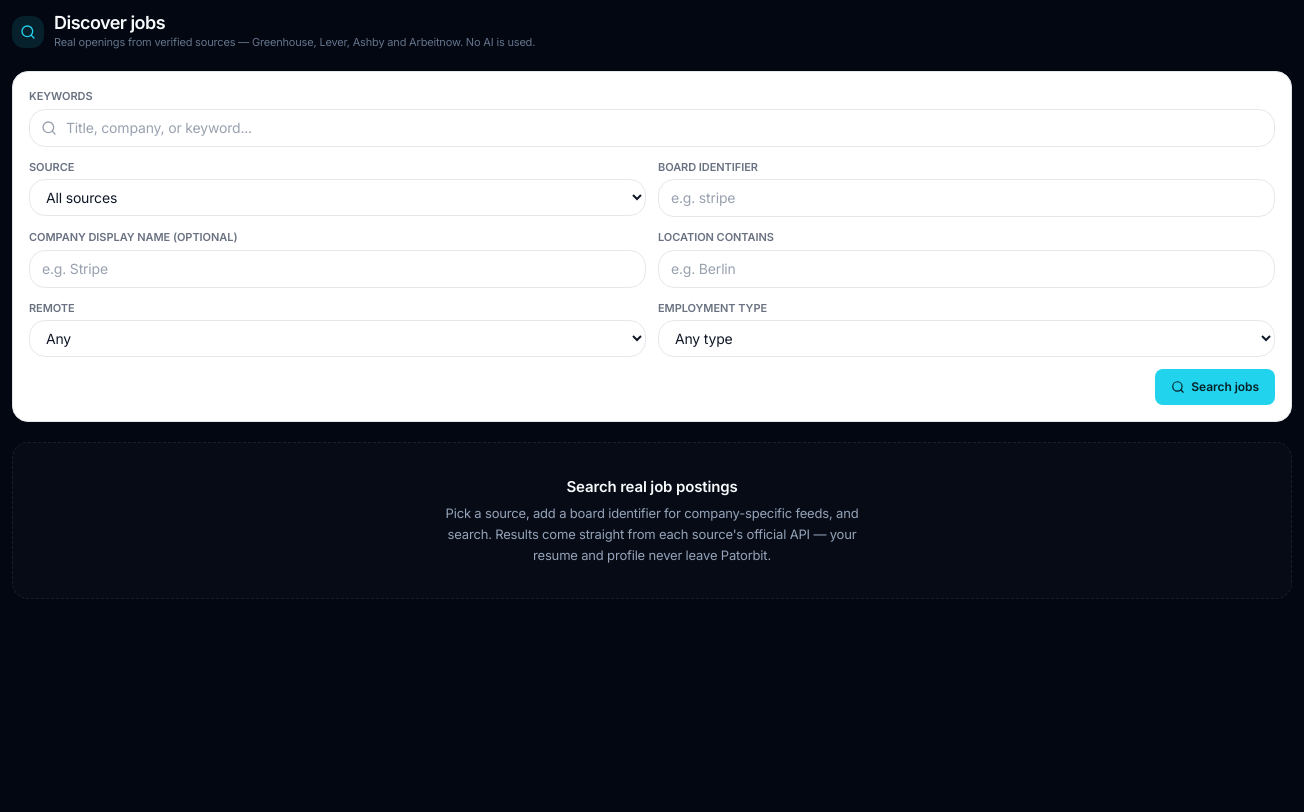
M7C provenance display › shows the exact feed identity and the last confirmed observation
Click the button "Search jobs" at (1215, 387), box [1155,369,1275,405]
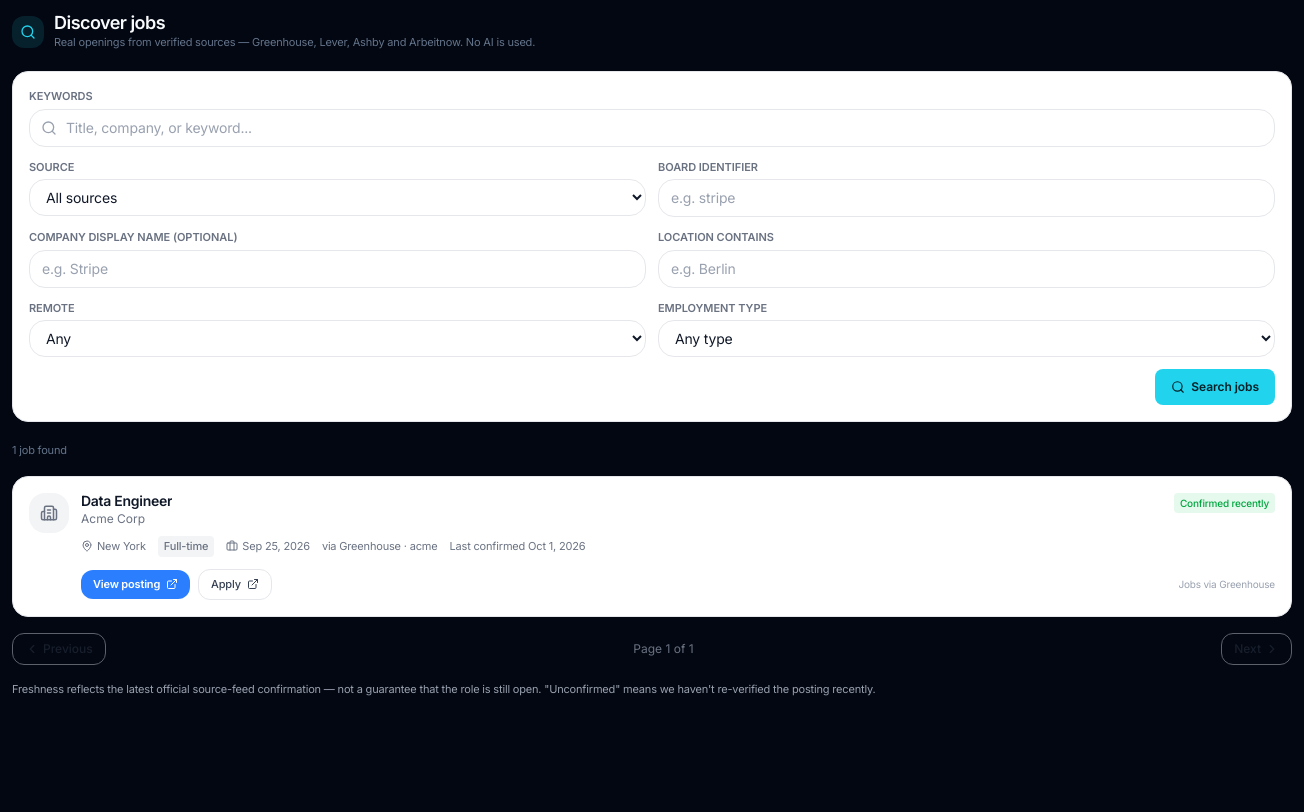
Expected: the text "via Greenhouse · acme" is shown, [322,538,438,555]
Expected: the text "Last confirmed Oct 1, 2026" is shown, [450,538,585,555]
